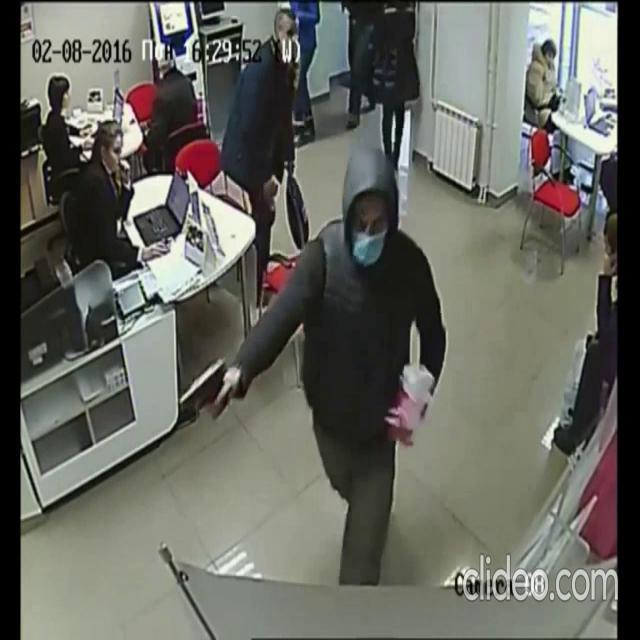pistol: (176, 356, 228, 416)
